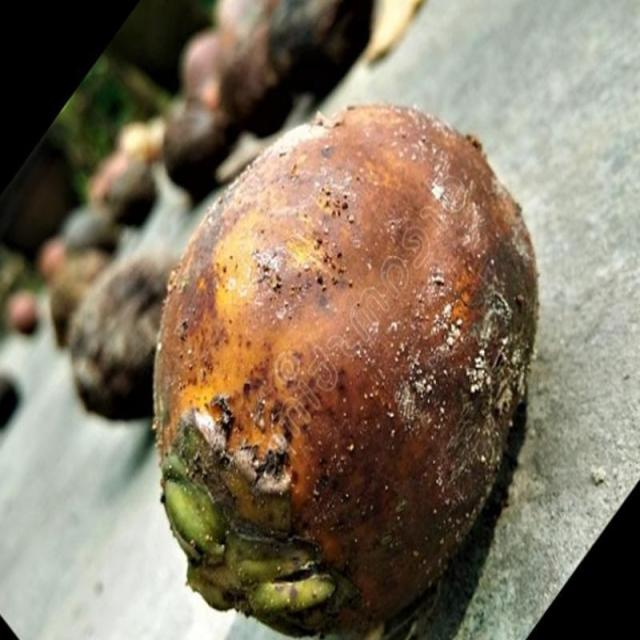damaged: (152, 102, 540, 639)
